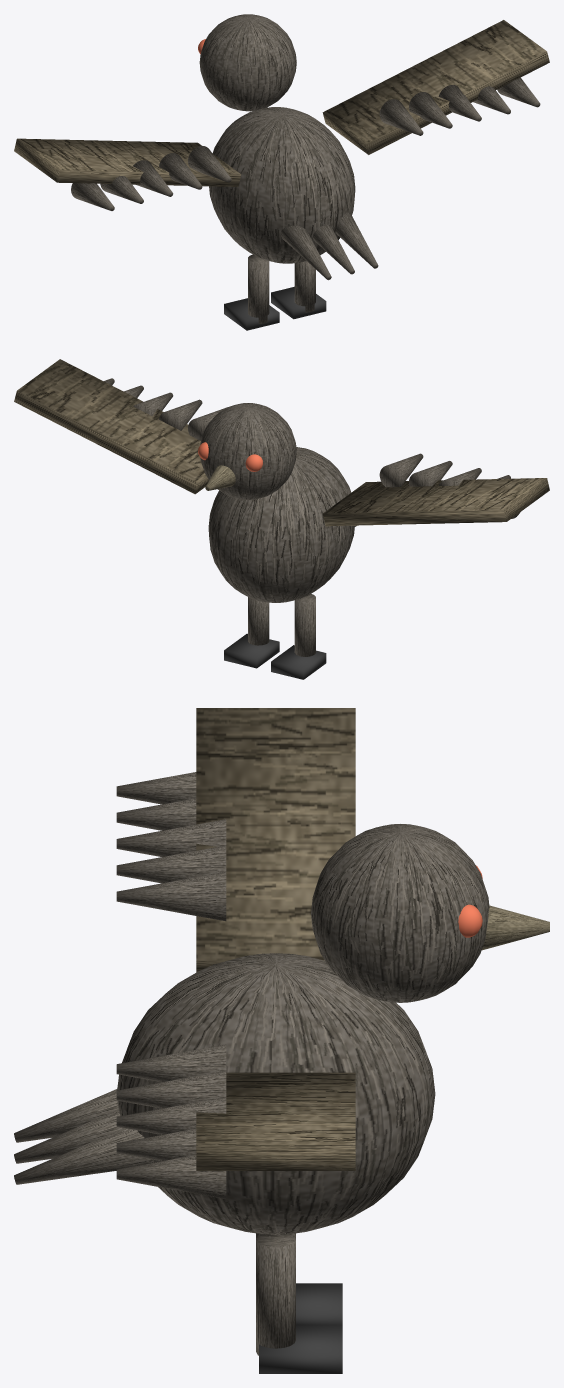
Rendered from anzu.glb.
3 renders of one model, top to bottom at view 1: azimuth 30°, elevation 25°; view 2: azimuth 150°, elevation 25°; view 3: azimuth 270°, elevation 25°, orthographic. The views are drawn at different scales.
Parts seen in each view (by area): view 1: Body, Wing.001, Head, Wing, Leg, TailFeather, Leg.001, TailFeather.002, Foot, Foot.001, Feather.005, Feather (+9 smaller); view 2: Body, Wing.001, Wing, Head, Leg, Foot.001, Foot, Leg.001, Feather, Feather.006, Feather.001, Beak (+2 smaller); view 3: Body, Wing, Head, Wing.001, Leg.001, Feather, Foot.001, TailFeather.002, Feather.009, Feather.001, Feather.005, Feather.006 (+9 smaller).
Part boxes in pixels (<box>): Body: <box>209,107,355,263</box>; Wing.001: <box>322,20,549,154</box>; Head: <box>199,14,296,111</box>; Wing: <box>14,138,241,186</box>; Leg: <box>248,254,269,323</box>; TailFeather: <box>280,225,331,280</box>; Leg.001: <box>294,261,315,312</box>; TailFeather.002: <box>335,211,378,268</box>; Foot: <box>224,298,279,330</box>; Foot.001: <box>271,286,326,319</box>; Feather.005: <box>379,99,423,135</box>; Feather: <box>188,146,231,182</box>; Body: <box>208,447,354,602</box>; Wing.001: <box>14,359,208,494</box>; Wing: <box>323,478,549,526</box>; Head: <box>200,403,296,499</box>; Leg: <box>294,594,315,656</box>; Foot.001: <box>224,633,279,668</box>; Foot: <box>271,645,326,679</box>; Leg.001: <box>248,597,269,645</box>; Feather: <box>379,453,423,487</box>; Feather.006: <box>159,399,202,430</box>; Feather.001: <box>409,461,452,486</box>; Beak: <box>205,465,235,490</box>; Body: <box>117,953,435,1234</box>; Wing: <box>196,708,355,972</box>; Head: <box>311,824,489,1002</box>; Wing.001: <box>196,1072,355,1170</box>; Leg.001: <box>256,1234,295,1355</box>; Feather: <box>116,872,226,921</box>; Foot.001: <box>259,1325,342,1373</box>; TailFeather.002: <box>14,1128,153,1184</box>; Feather.009: <box>116,1155,226,1198</box>; Feather.001: <box>116,845,226,883</box>; Feather.005: <box>116,1044,226,1082</box>; Feather.006: <box>116,1070,226,1108</box>.
Bounding box in the file's own units: 1.88 × 1 × 0.9601.
Materials: 6 (4 with a texture image).
